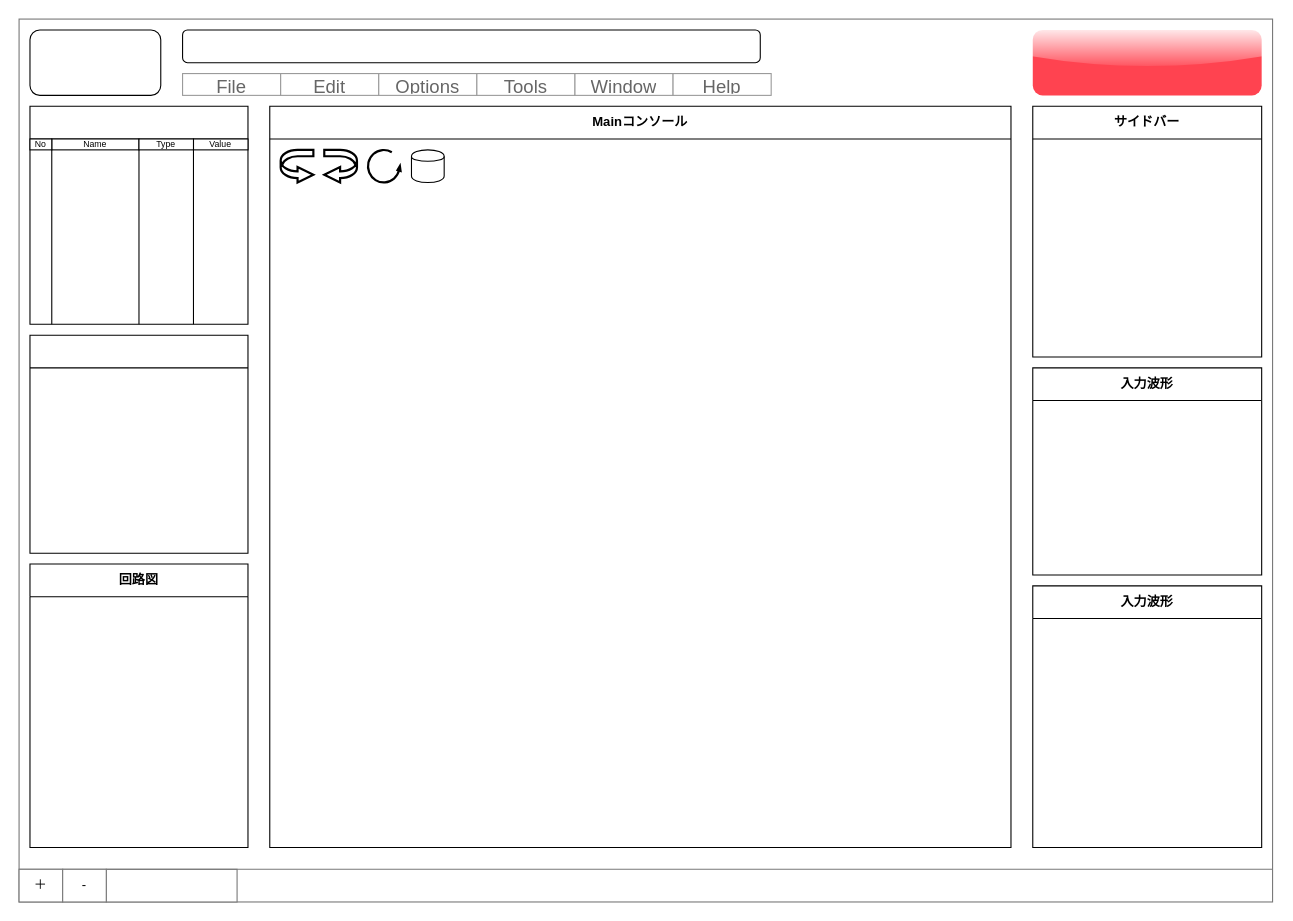
Image size: 1293x921. Some labels were removed from this diagram. Here are the shapes that lost their labels. From the top down, the box of each, then its label:
(29, 29, 161, 95): ロゴ
(181, 29, 760, 63): ファイル名表示箇所
(1032, 29, 1261, 95): SoundCheck
(410, 149, 444, 183): Dust
(29, 105, 248, 324): Parts List
(29, 334, 248, 553): 回路図エラー判定
(105, 868, 237, 902): シート１
